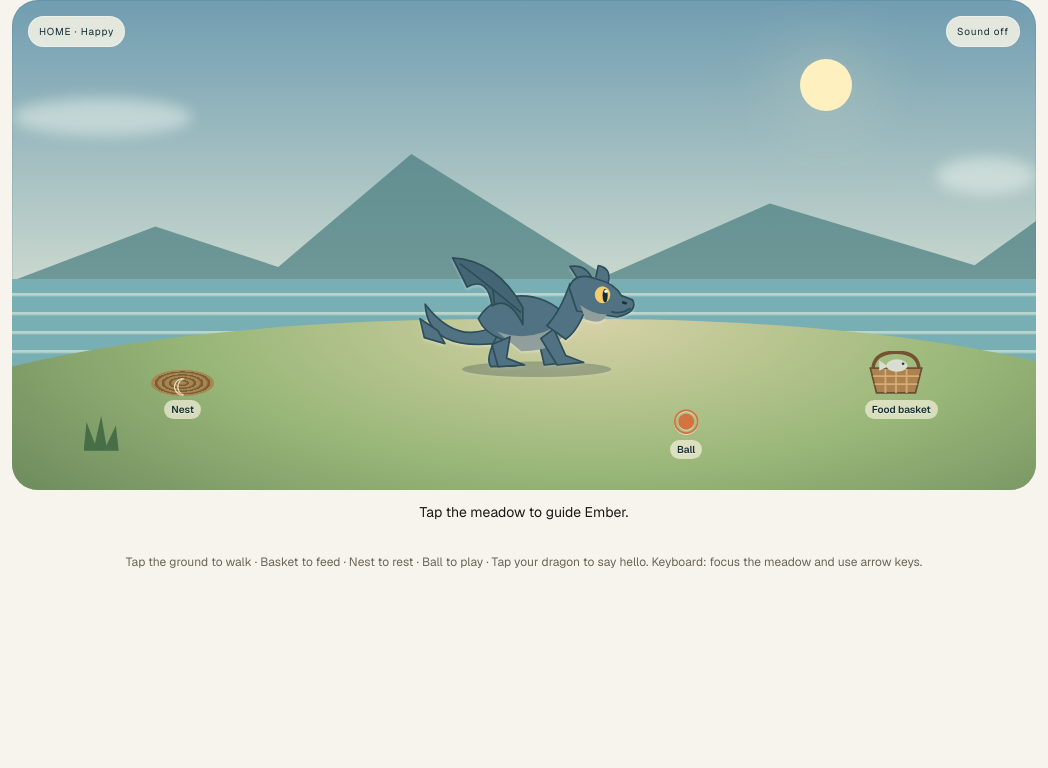
Test: playable habitat › walks to the basket and only eats after the server accepts feeding
Step 1. Click the button with aria-label "Open food basket" → (901, 386), box [859, 345, 944, 426]
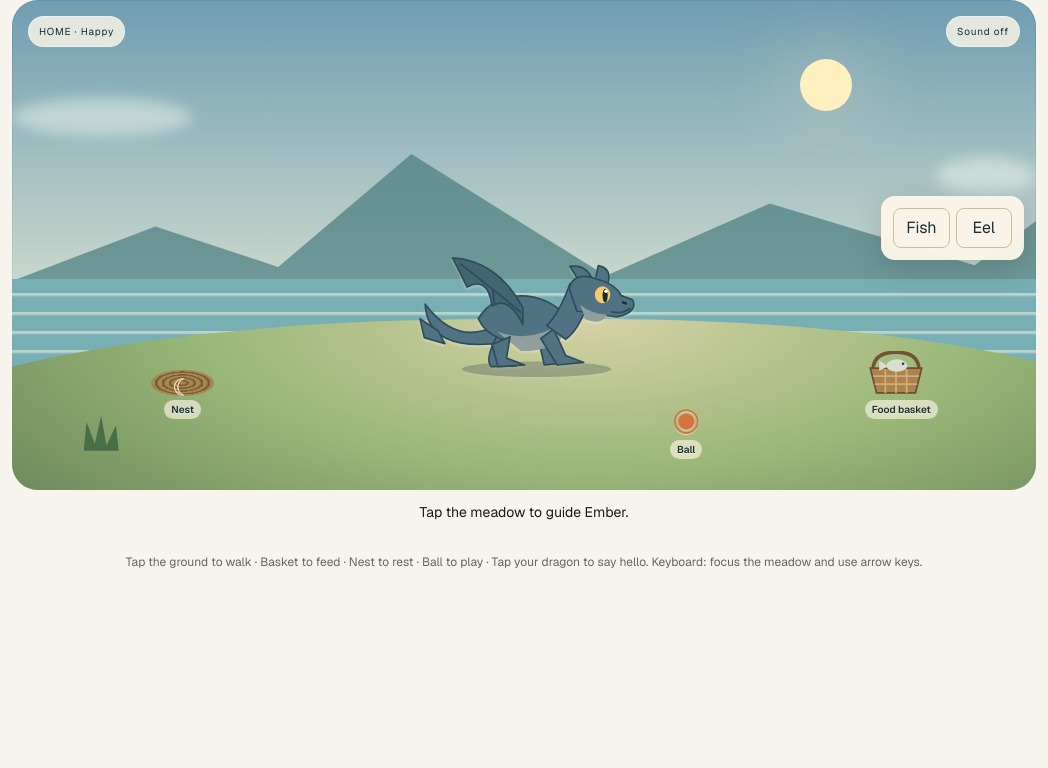
Step 2. Click the button "fish" → (921, 228), box [893, 208, 950, 248]
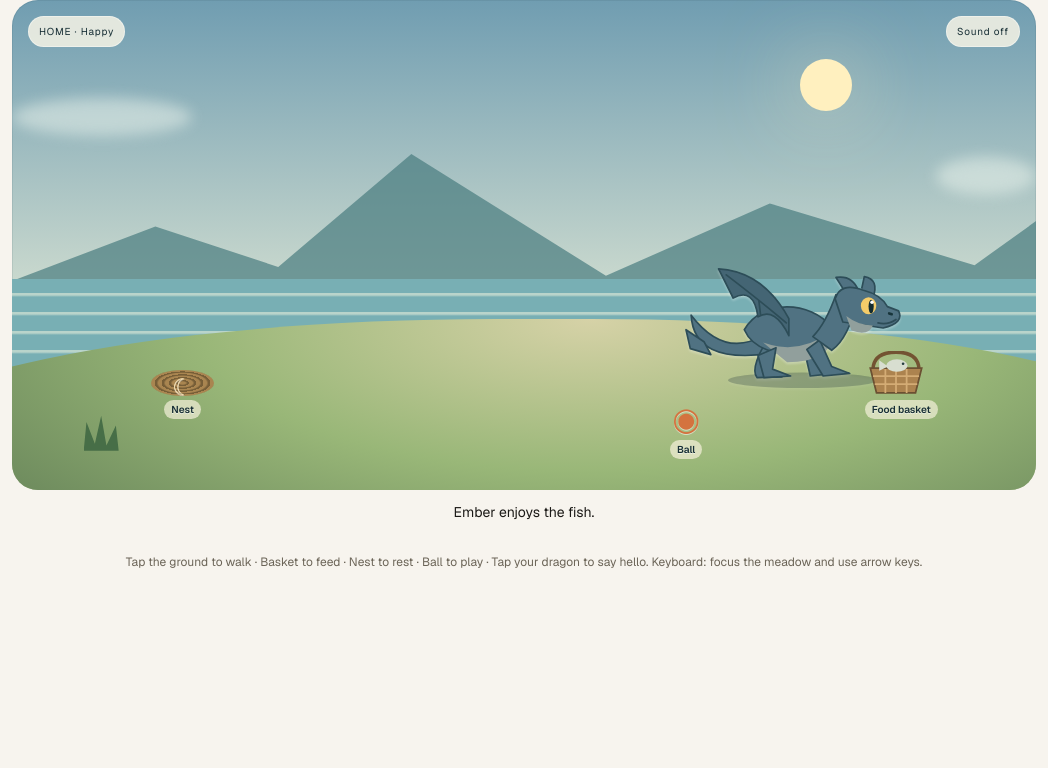
Expected: the 1st icon is shown, [680, 240, 920, 403]
Expected: the text "Ember enjoys the fish." is shown, [454, 503, 594, 521]
